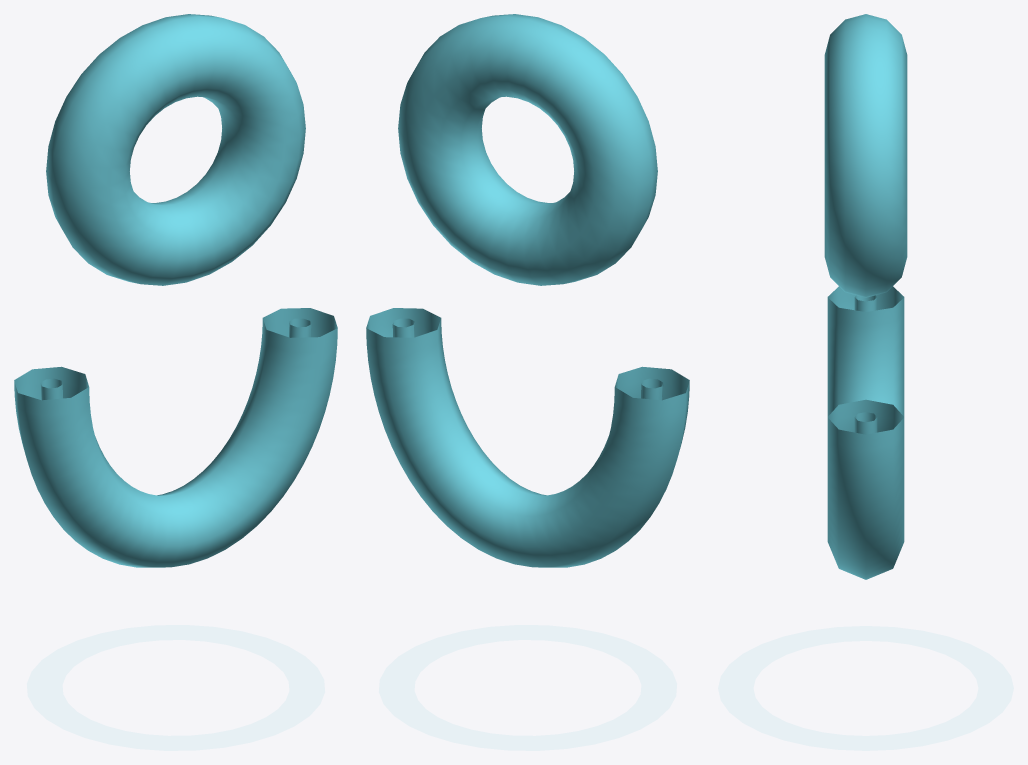
The model's file is agentMessenger.glb.
3 renders of one model, left to right at view 1: azimuth 30°, elevation 25°; view 2: azimuth 150°, elevation 25°; view 3: azimuth 270°, elevation 25°, orthographic.
Parts seen in each view (by area): view 1: n2, n5, n4; view 2: n2, n5, n4; view 3: n2, n5, n4.
Boxes of the visible parts, left/top/right/bottom form: n2: left=46, top=14, right=305, bottom=285; n5: left=14, top=308, right=337, bottom=567; n4: left=40, top=318, right=311, bottom=400; n2: left=398, top=14, right=657, bottom=285; n5: left=366, top=308, right=689, bottom=567; n4: left=392, top=318, right=663, bottom=400; n2: left=824, top=14, right=907, bottom=297; n5: left=827, top=286, right=904, bottom=579; n4: left=854, top=295, right=877, bottom=434.
Size of the model in its own units: 0.4269 by 0.8627 by 0.35.
